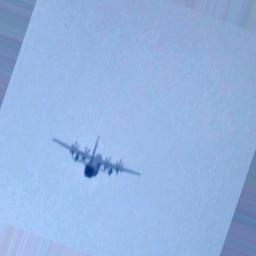Airplane: (51, 136, 142, 180)
